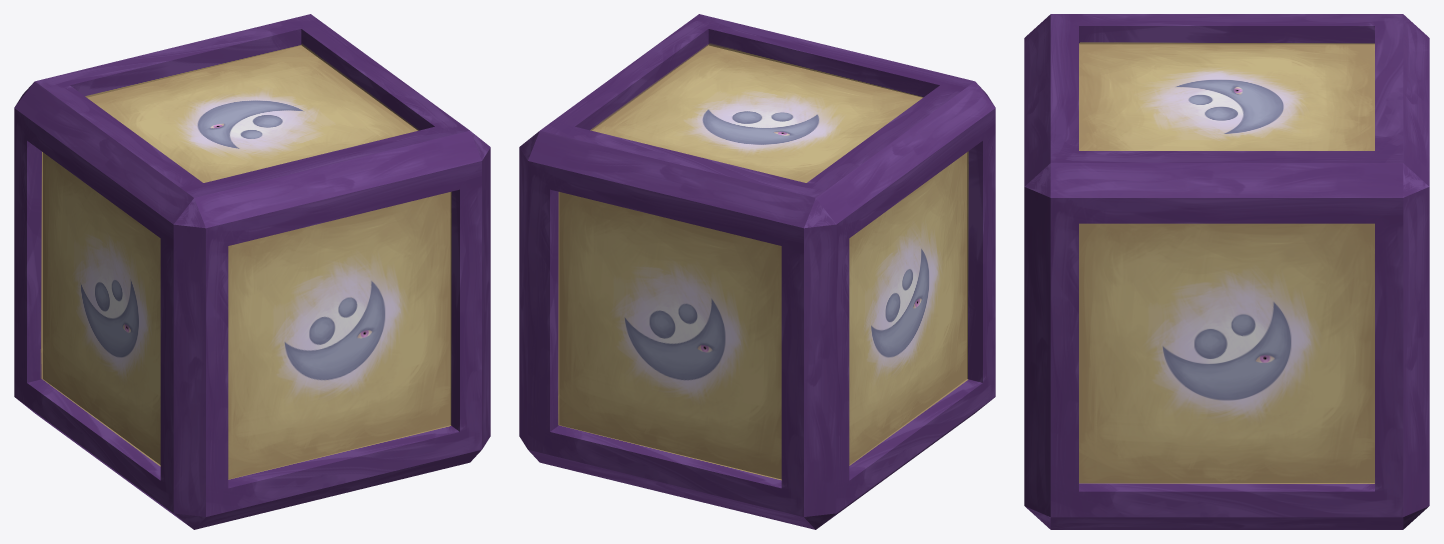
Rendered from baby_block.fbx.
The picture shows the model from 3 angles, left to right: view 1: azimuth 30°, elevation 25°; view 2: azimuth 150°, elevation 25°; view 3: azimuth 270°, elevation 25°; orthographic projection. The views are drawn at different scales.
Visible parts, largest first — view 1: pCube1; view 2: pCube1; view 3: pCube1.
Boxes of the visible parts, <box> form: pCube1: <box>14,14,490,529</box>; pCube1: <box>519,14,995,529</box>; pCube1: <box>1024,14,1429,529</box>.
Size of the model in its own units: 1 by 1 by 1.
